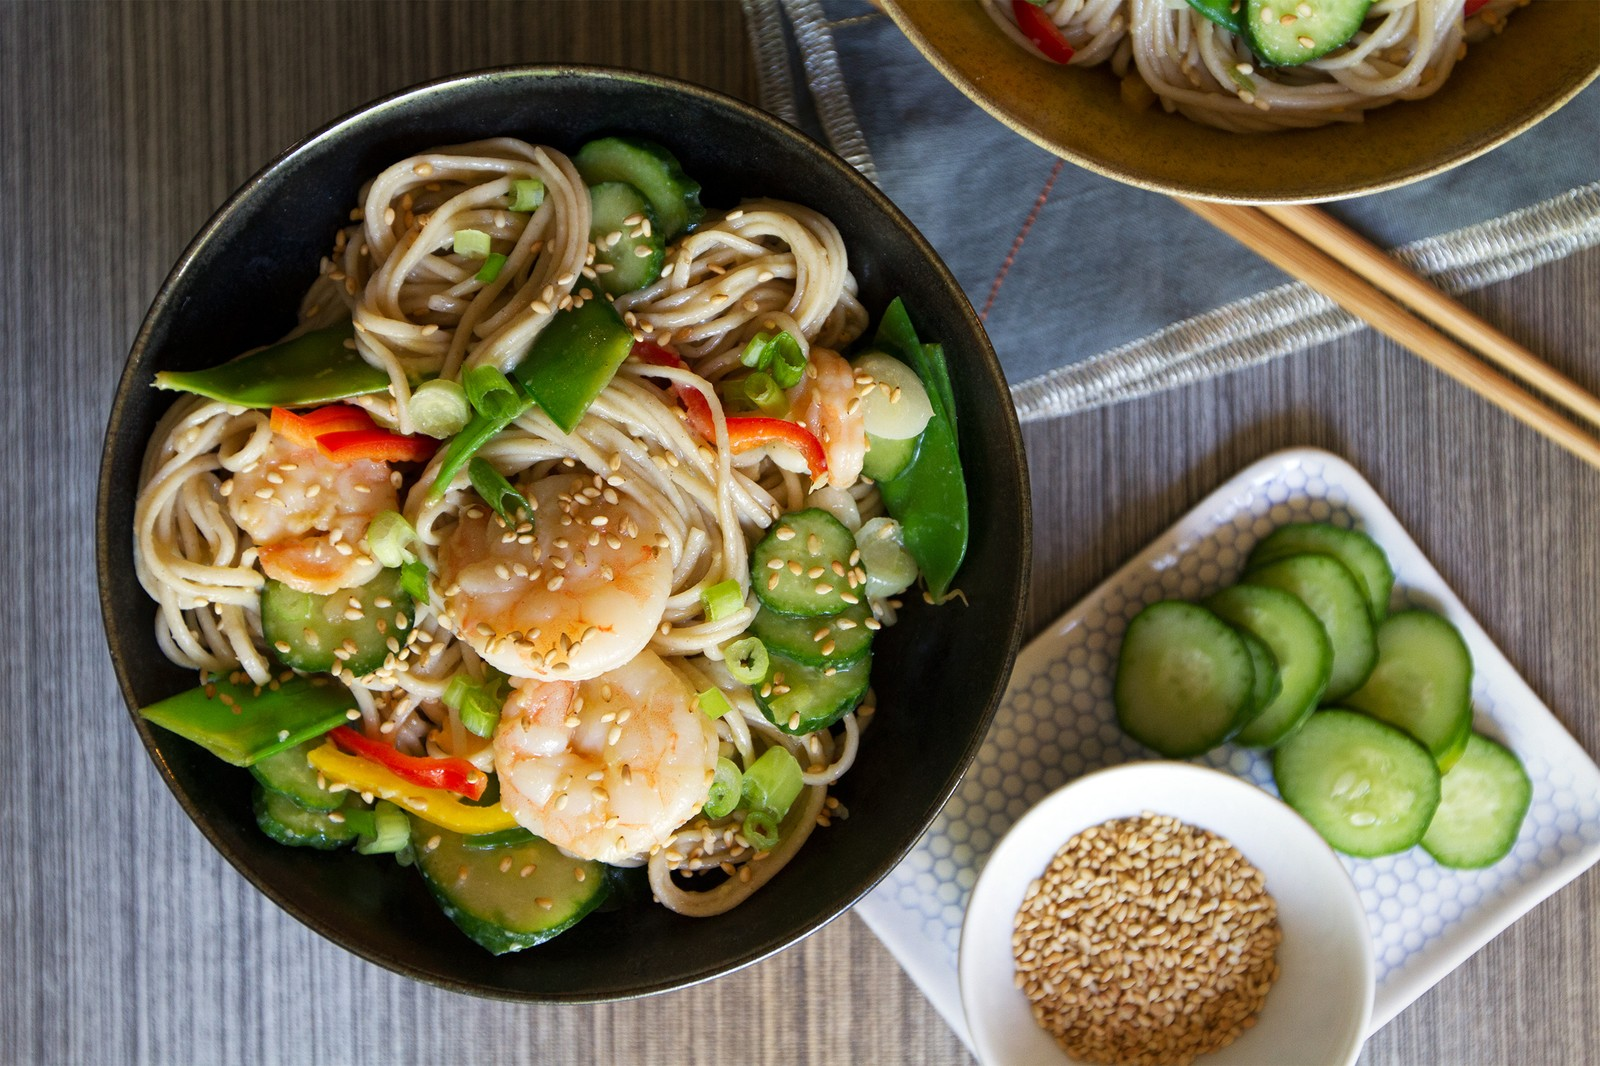Soba: (169, 158, 903, 960)
